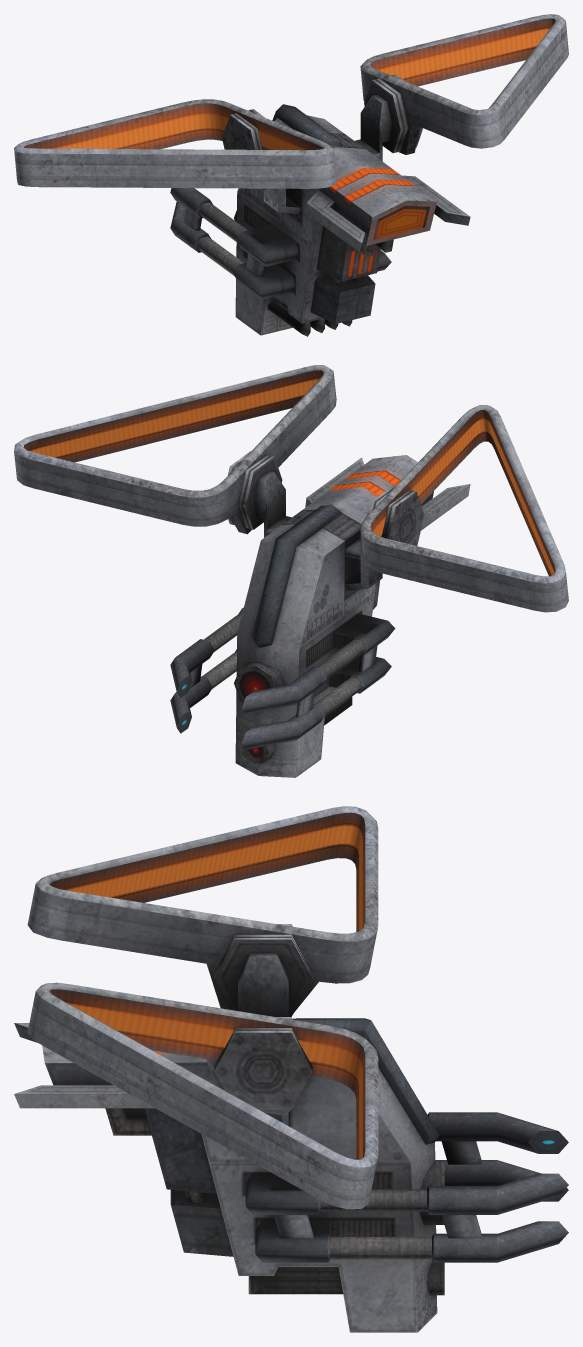
File: buzzer_bot.obj
The picture shows the model from 3 angles, top to bottom: view 1: azimuth 30°, elevation 25°; view 2: azimuth 150°, elevation 25°; view 3: azimuth 270°, elevation 25°; orthographic projection. The views are drawn at different scales.
Parts seen in each view (by area): view 1: buzzer; view 2: buzzer; view 3: buzzer.
Boxes of the visible parts, <box> form: buzzer: <box>14,14,568,336</box>; buzzer: <box>14,365,568,777</box>; buzzer: <box>14,806,568,1332</box>.
Size of the model in its own units: 174 by 86.06 by 114.
